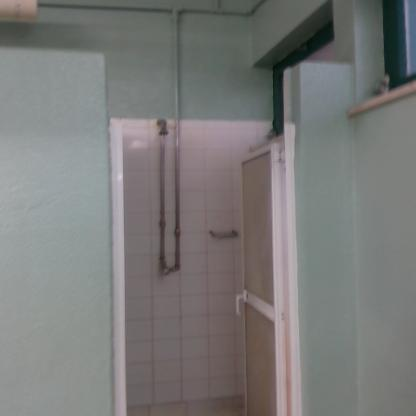open: (93, 98, 343, 416)
